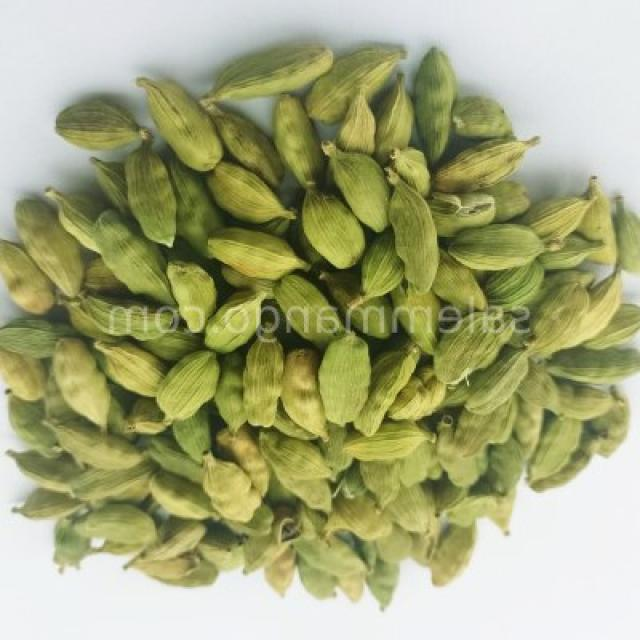Cardamom: (3, 35, 640, 611)
